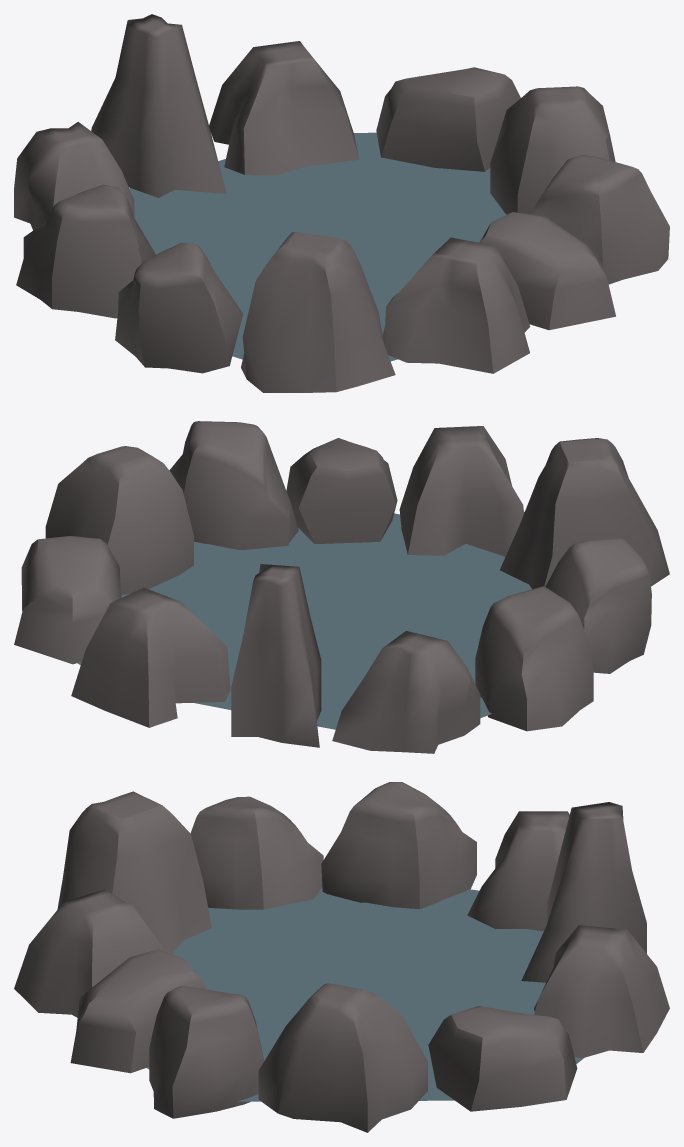
File: P_puddle.fbx
3 views of the same model, one above another, from view 1: azimuth 30°, elevation 25°; view 2: azimuth 150°, elevation 25°; view 3: azimuth 270°, elevation 25° (orthographic).
Parts seen in each view (by area): view 1: P_puddle; view 2: P_puddle; view 3: P_puddle.
Part boxes in pixels (left/top/right/bottom): P_puddle: left=14, top=14, right=669, bottom=392; P_puddle: left=14, top=421, right=669, bottom=753; P_puddle: left=14, top=782, right=669, bottom=1132.
Size of the model in its own units: 0.8037 by 0.2291 by 0.8146.
